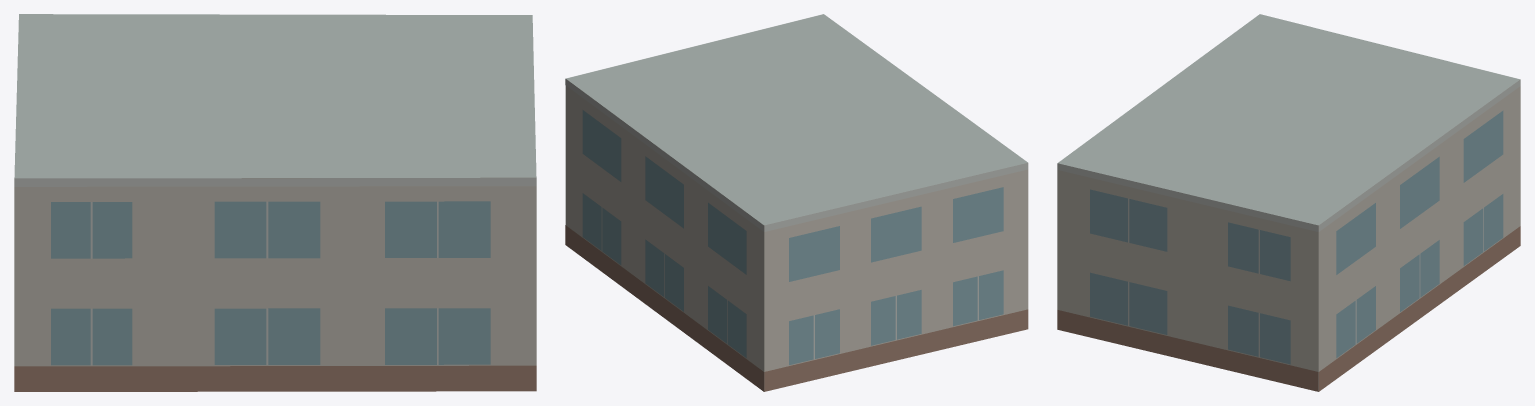
Rendered from survey-upis-32944857.glb.
3 renders of one model, left to right at view 1: azimuth 30°, elevation 25°; view 2: azimuth 150°, elevation 25°; view 3: azimuth 270°, elevation 25°, orthographic. The views are drawn at different scales.
Visible parts, largest first — view 1: survey-upis-32944857.tmp; view 2: survey-upis-32944857.tmp; view 3: survey-upis-32944857.tmp.
Part boxes in pixels (x1,y1,x2,y2): survey-upis-32944857.tmp: (14,14,536,391); survey-upis-32944857.tmp: (565,14,1028,391); survey-upis-32944857.tmp: (1057,14,1520,391).
Size of the model in its own units: 16.63 by 6.1 by 15.39.
